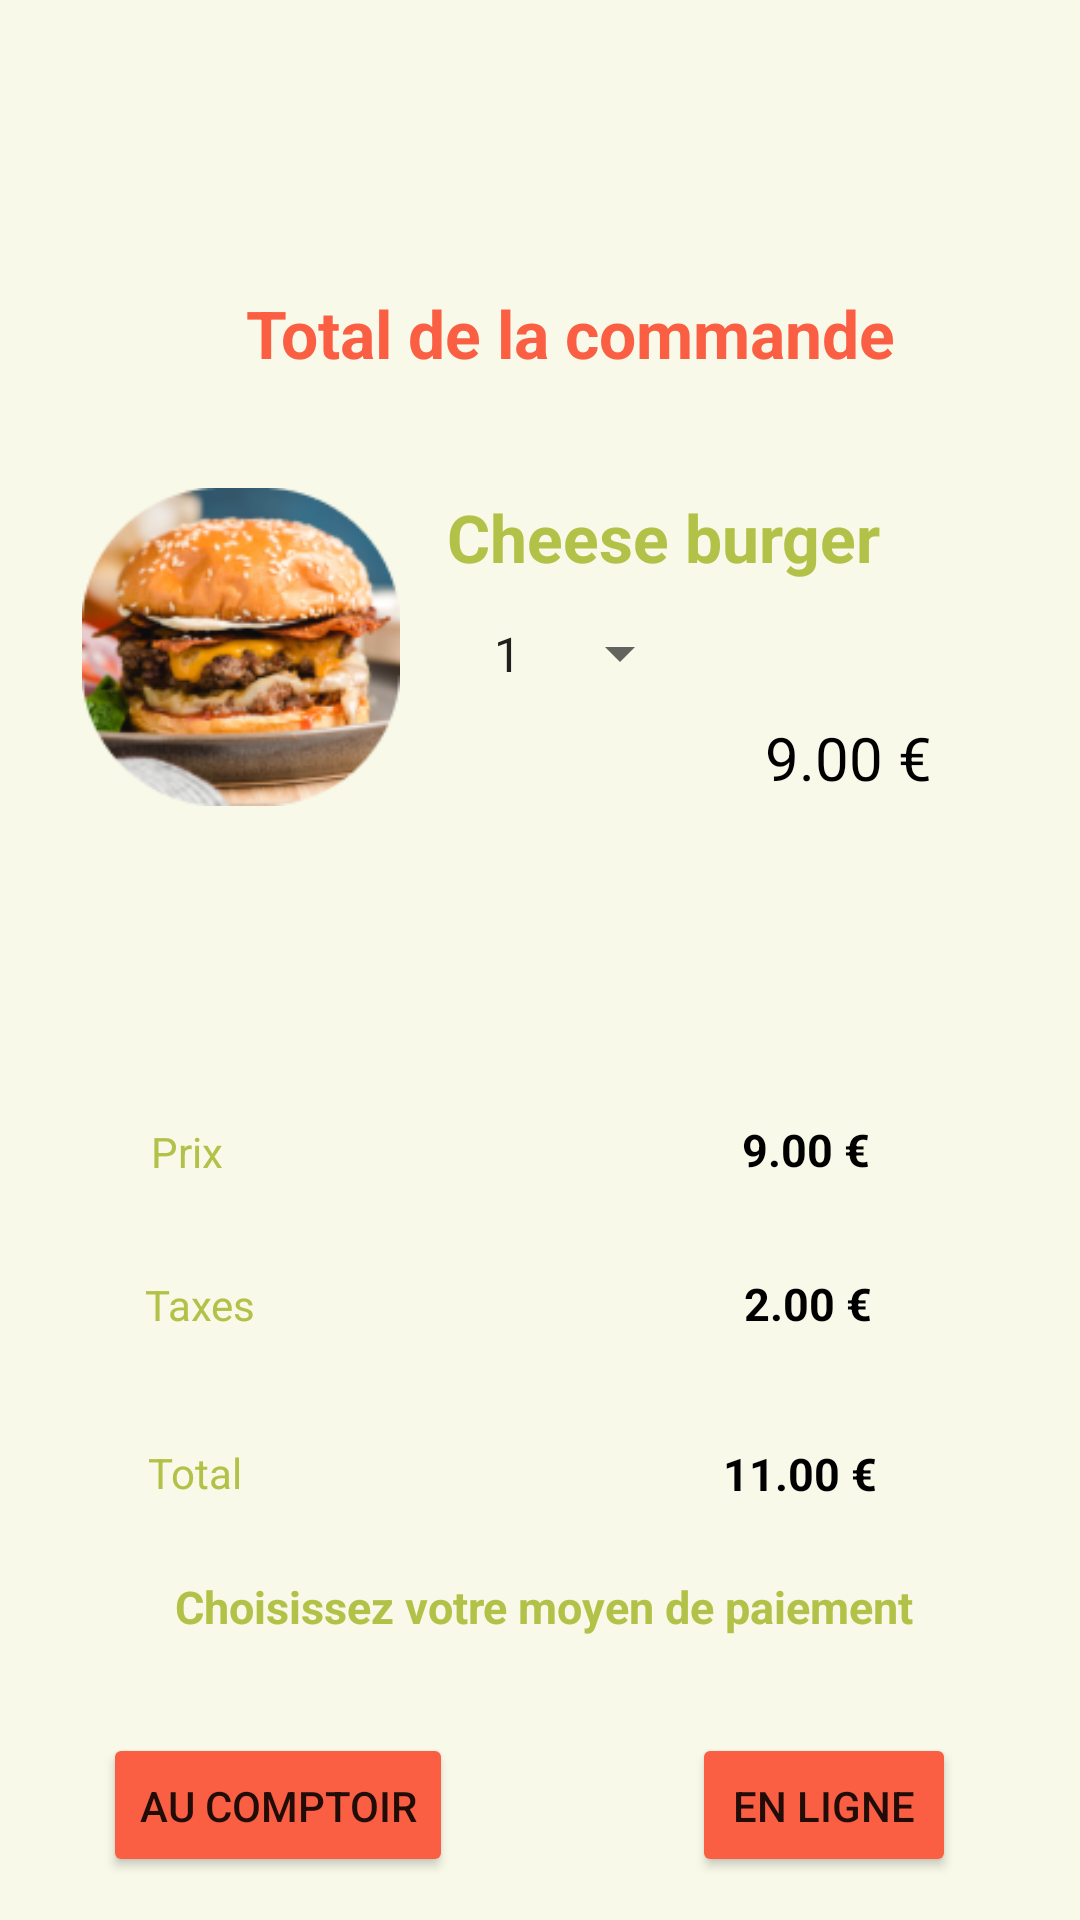

Point at icon controls on the screen. Image size 1080px x 1920px, points as [x,y].
burgerrogne: [241,647]
